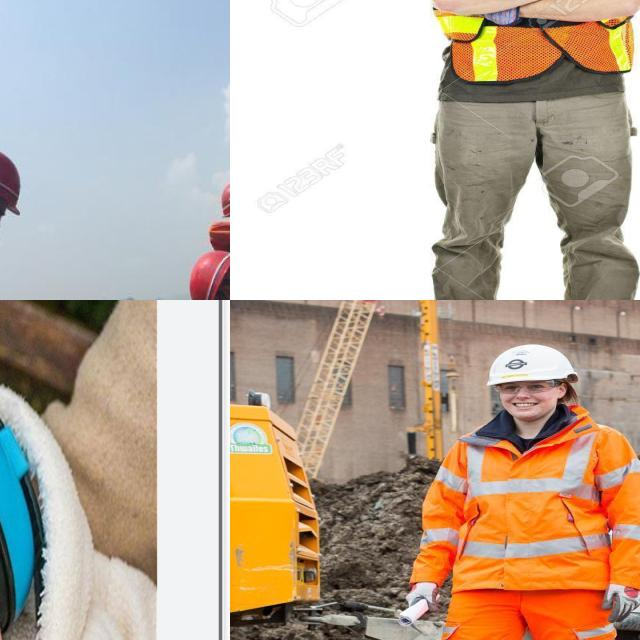Ear-protection: (0, 346, 63, 639)
No_Ear-Protection: (223, 283, 230, 300)
face_nomask: (494, 373, 550, 429), (0, 190, 11, 251)
glasses: (494, 377, 560, 395)
hand_glove: (394, 569, 460, 629), (599, 577, 640, 627)
head_helmet: (486, 344, 579, 385), (180, 242, 230, 300), (0, 135, 28, 215), (216, 164, 230, 219)
person: (395, 345, 640, 640), (404, 0, 640, 300)
vest: (418, 414, 640, 589), (435, 0, 640, 66)
